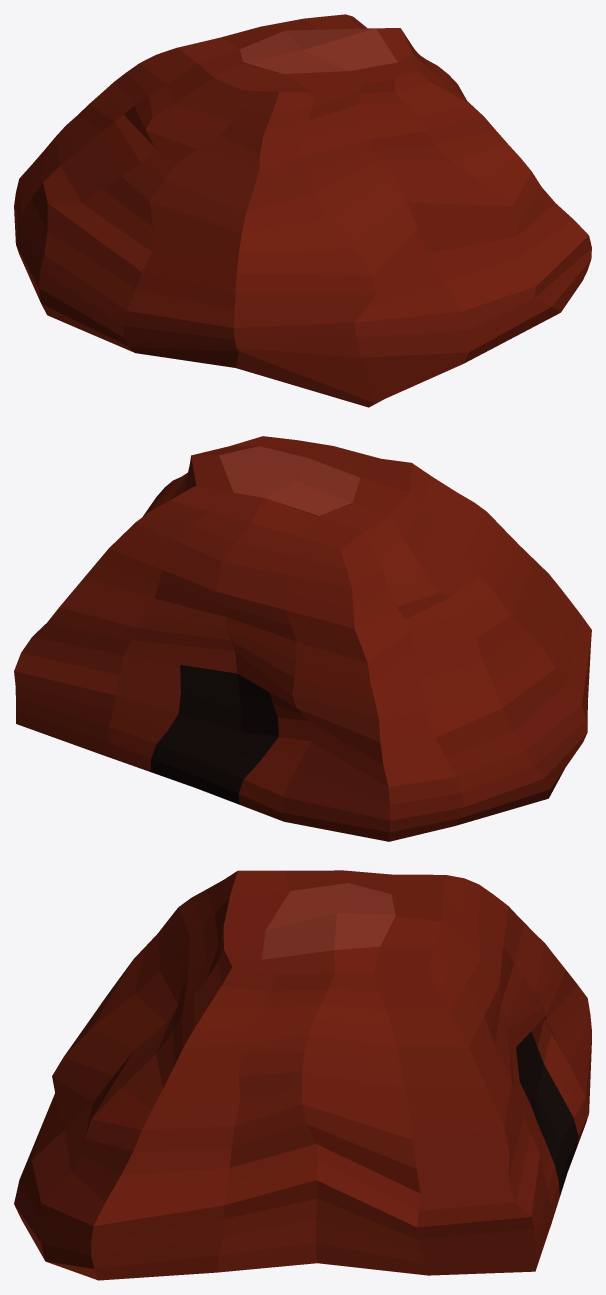
Rendered from Cave2.fbx.
3 renders of one model, top to bottom at view 1: azimuth 30°, elevation 25°; view 2: azimuth 150°, elevation 25°; view 3: azimuth 270°, elevation 25°, orthographic. The views are drawn at different scales.
Visible parts, largest first — view 1: cave entrance 1.002, top cave1.001; view 2: cave entrance 1.002, cave entrance 1.003, top cave1.001; view 3: cave entrance 1.002, cave entrance 1.003, top cave1.001.
Boxes of the visible parts, bbox=[...] form: cave entrance 1.002: bbox=[14, 14, 591, 407]; top cave1.001: bbox=[240, 28, 397, 73]; cave entrance 1.002: bbox=[14, 436, 591, 841]; cave entrance 1.003: bbox=[105, 656, 311, 821]; top cave1.001: bbox=[219, 446, 360, 515]; cave entrance 1.002: bbox=[14, 870, 591, 1280]; cave entrance 1.003: bbox=[516, 1017, 588, 1221]; top cave1.001: bbox=[262, 883, 395, 959].
Size of the model in its own units: 844 by 487 by 779.
3 materials, 3 textured.
